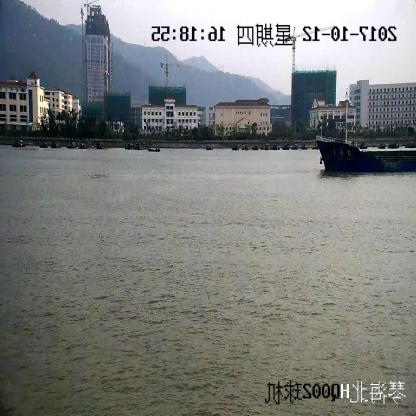Bulk Carrier: (317, 136, 416, 174)
